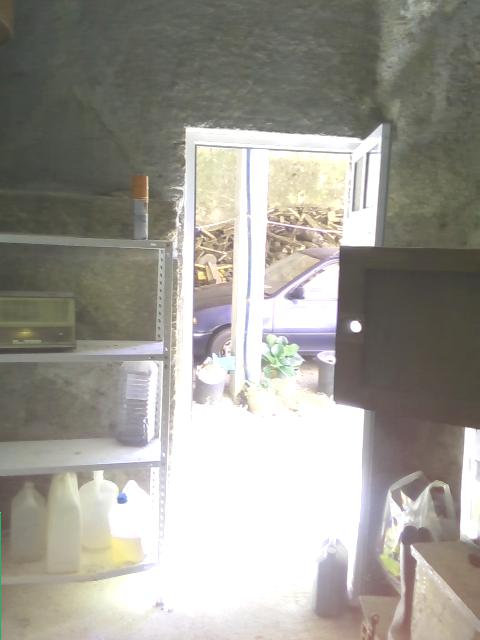open_door: (162, 125, 361, 600)
